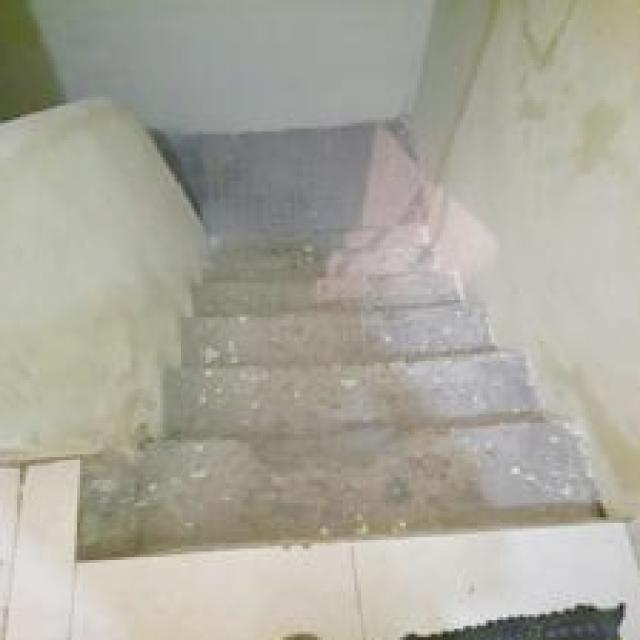downstair: (98, 347, 544, 552)
